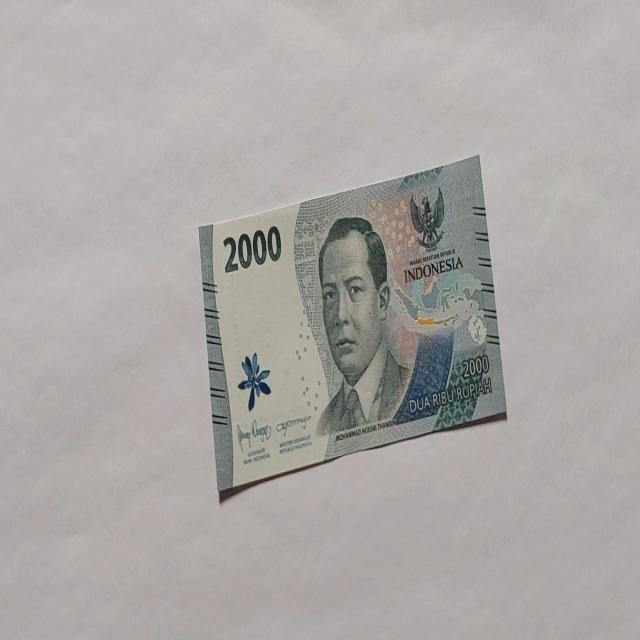dua ribu rupiah: (198, 153, 508, 499), (314, 215, 412, 439)
